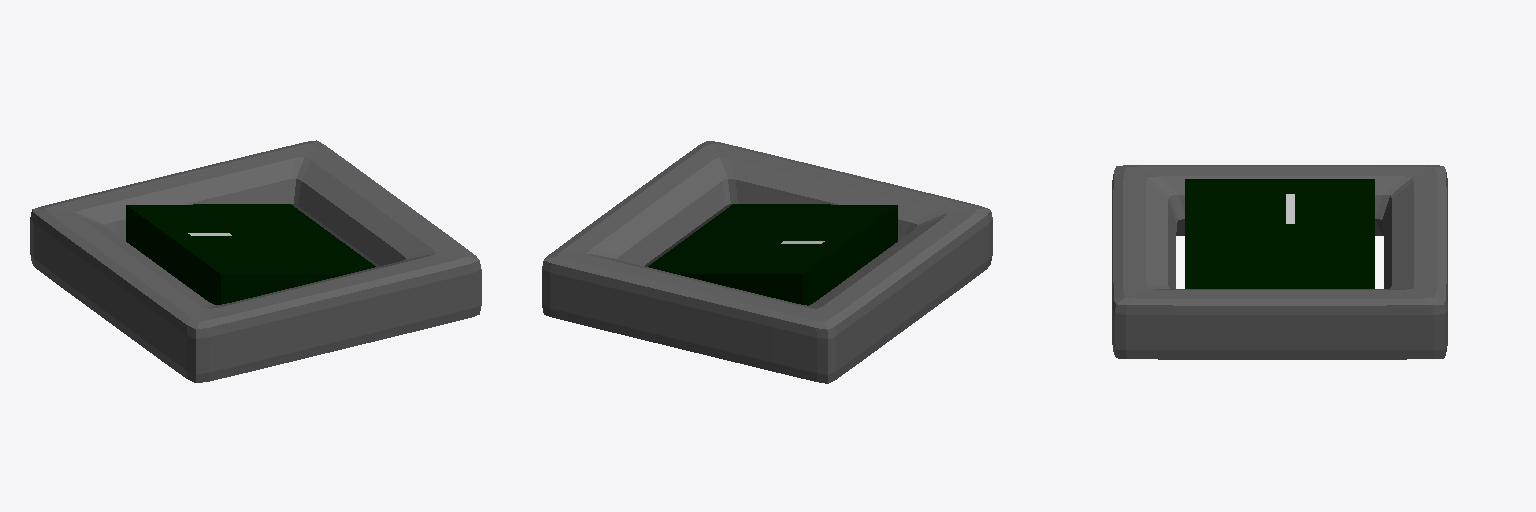
The picture shows the model from 3 angles: view 1: azimuth 30°, elevation 25°; view 2: azimuth 150°, elevation 25°; view 3: azimuth 270°, elevation 25°; orthographic projection.
Parts seen in each view (by area): view 1: transformer, Cube; view 2: transformer, Cube; view 3: transformer, Cube.
Boxes of the visible parts, box(x1,y1,x2,y2) form: transformer: box(30, 140, 481, 382); Cube: box(126, 204, 375, 304); transformer: box(542, 141, 992, 383); Cube: box(648, 204, 897, 305); transformer: box(1112, 165, 1447, 359); Cube: box(1185, 179, 1374, 288).
Bounding box in the file's own units: 3 × 0.7204 × 3.